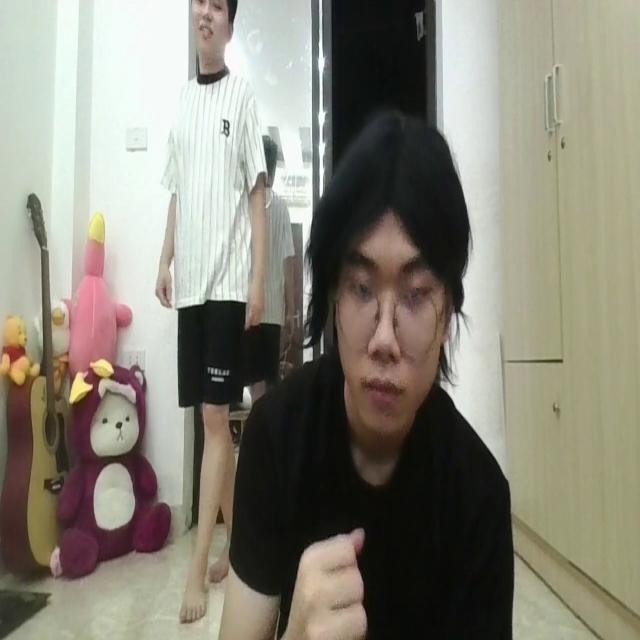extra_person: (150, 0, 265, 624)
student: (227, 108, 514, 640)
